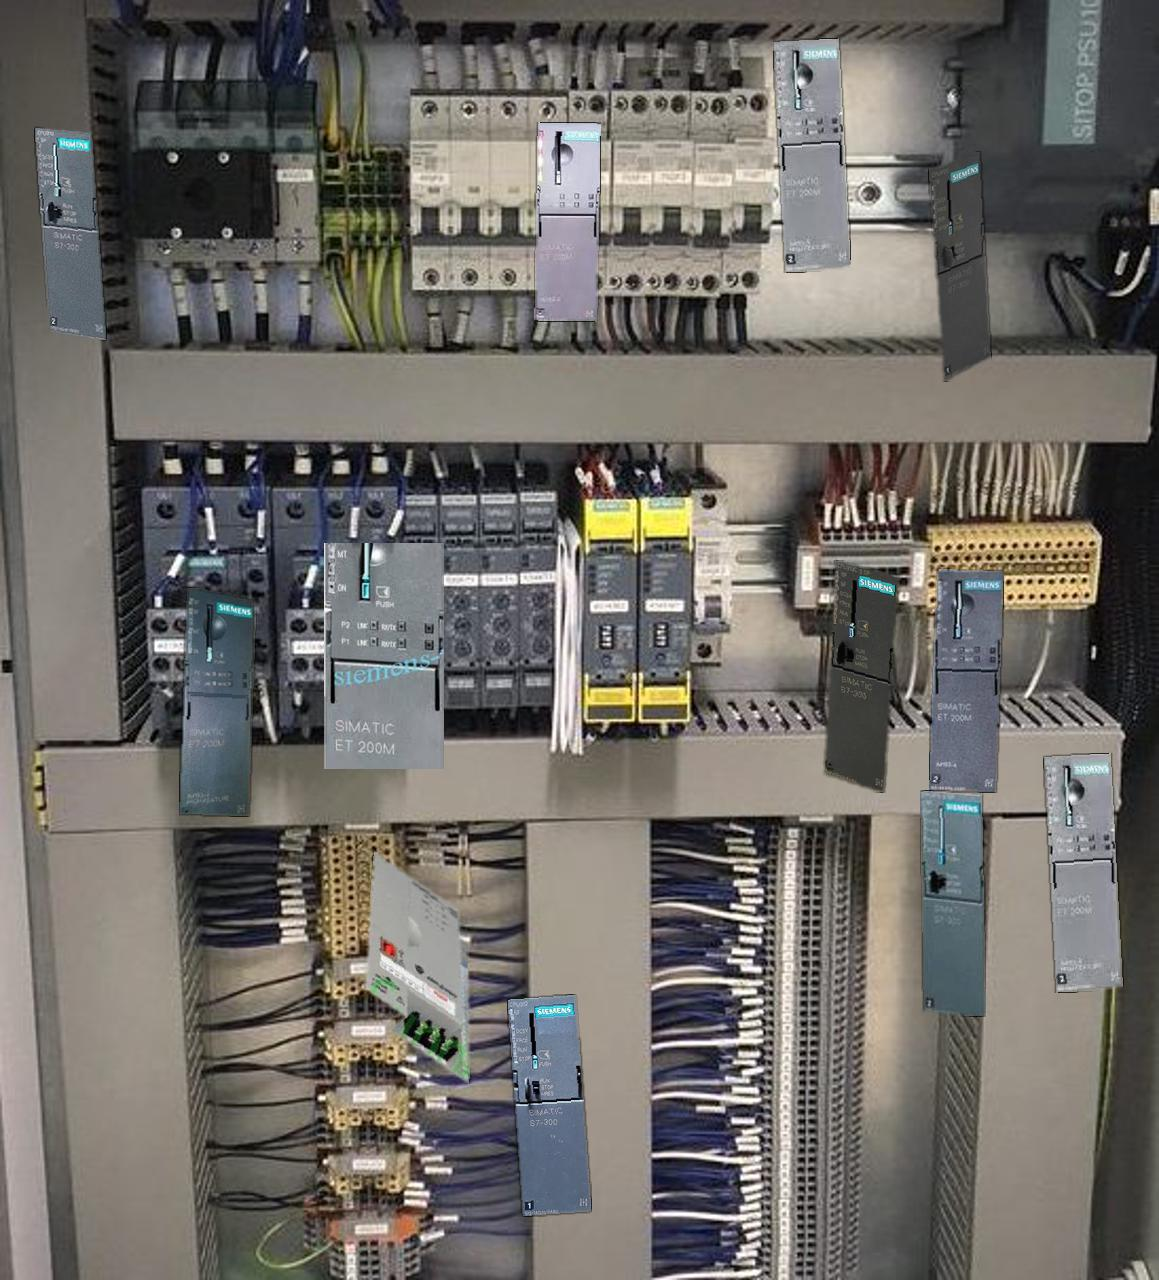AllenBradley: (365, 851, 469, 1083)
Siemens: (508, 995, 590, 1215), (824, 560, 898, 792), (35, 128, 105, 339), (921, 791, 984, 1015), (929, 152, 989, 380)
